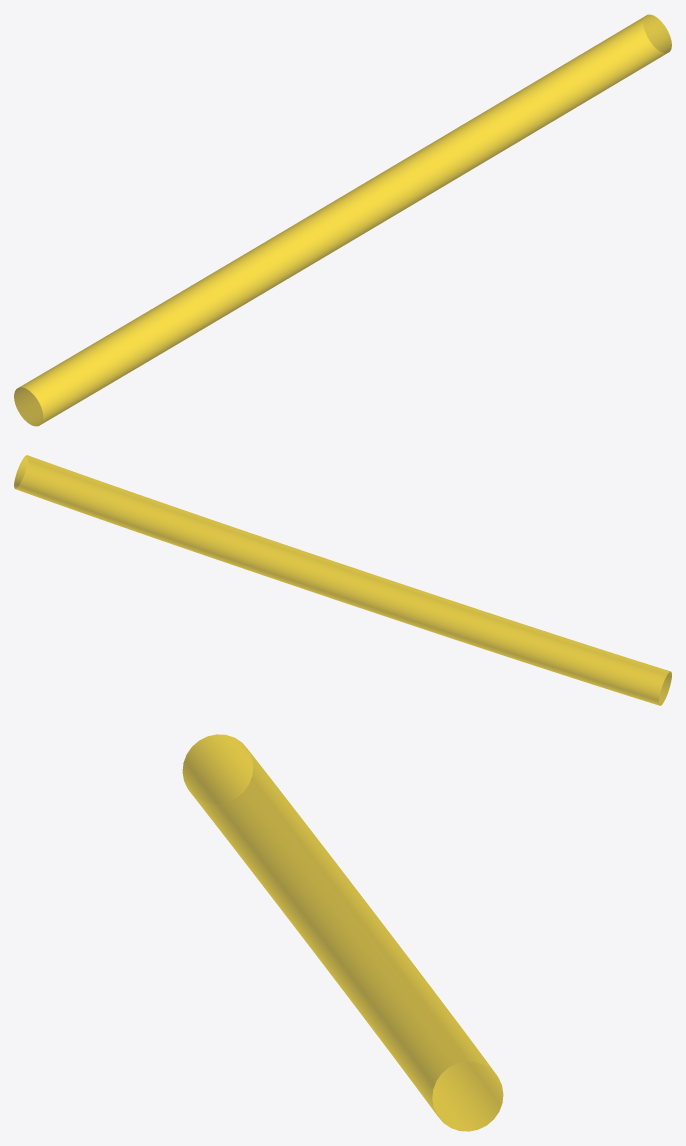
The model's file is Event_84804159_track_87.fbx.
3 views of the same model, one above another, from view 1: azimuth 30°, elevation 25°; view 2: azimuth 150°, elevation 25°; view 3: azimuth 270°, elevation 25° (orthographic). The views are drawn at different scales.
Parts seen in each view (by area): view 1: Model; view 2: Model; view 3: Model.
Part boxes in pixels (left/top/right/bottom): Model: left=14, top=14, right=671, bottom=426; Model: left=14, top=455, right=671, bottom=705; Model: left=182, top=734, right=503, bottom=1131.
Bounding box in the file's own units: 0.7548 × 0.1863 × 0.1778.
